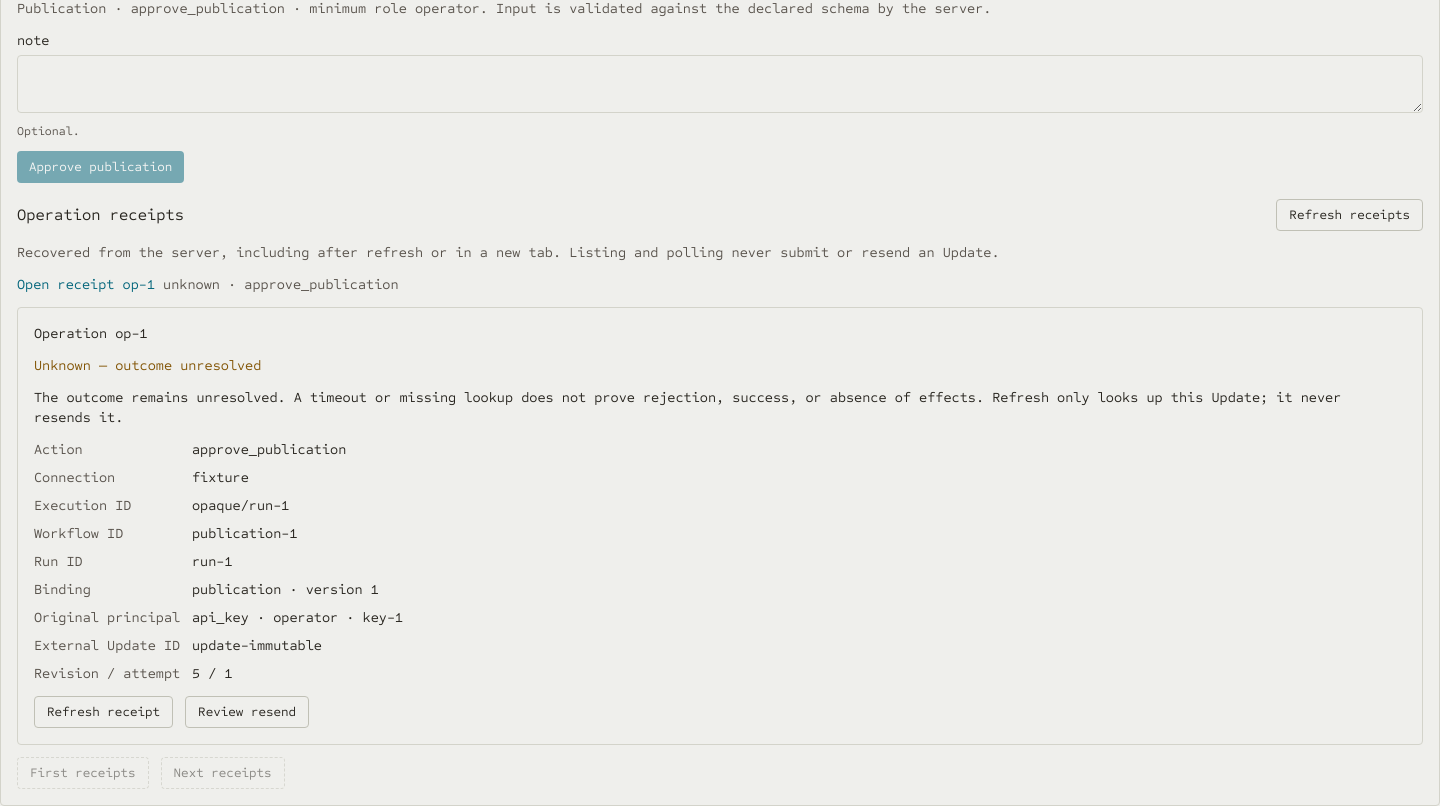
Scenario: server operation receipts › clears confirmation when a stronger receipt revision is observed
(page scrolled)
expect the element with test id "operation-receipt" is shown: met, box [17,307,1423,745]
What coordinates should you click on to do the following:
click the button "Review resend"
I would click on:
 (247, 712)
Its box is [185,696,309,728].
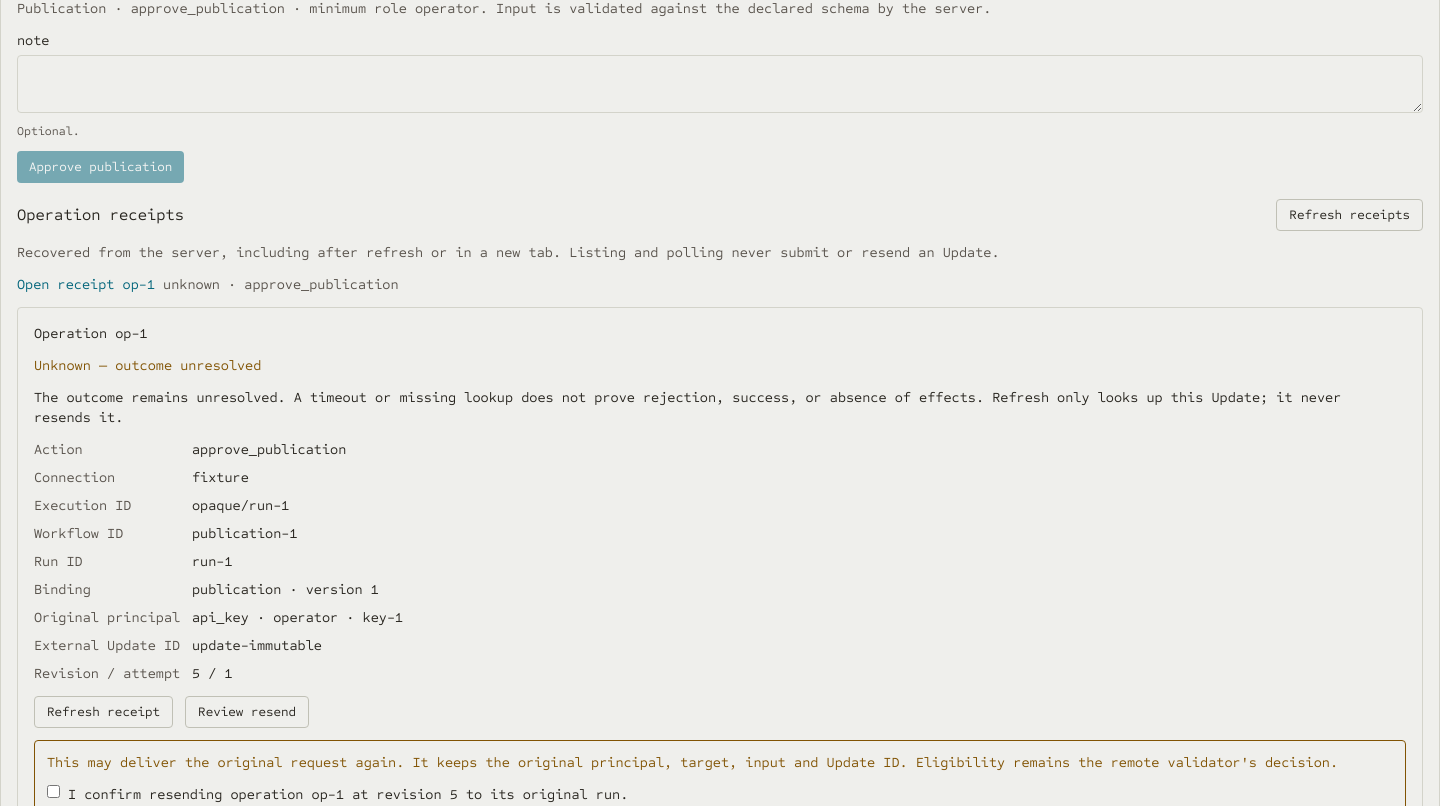
What coordinates should you click on to do the following:
click the checkbox
I would click on:
 (54, 792)
Its box is [47,785,60,798].
(page scrolled)
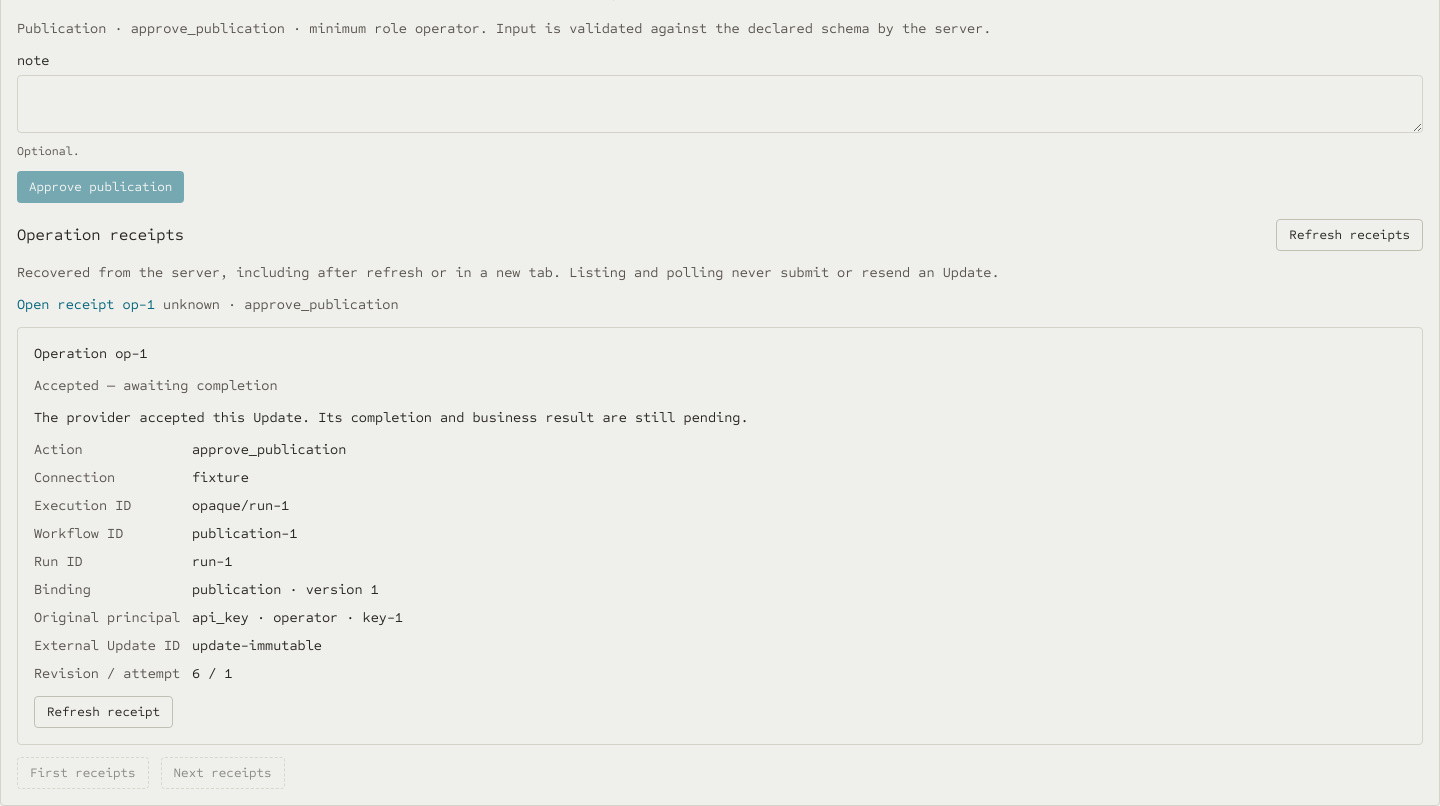
expect the checkbox is gone: met
expect the message with test id "operation-state" reads "Accepted — awaiting completion": met, box [34,377,278,394]
